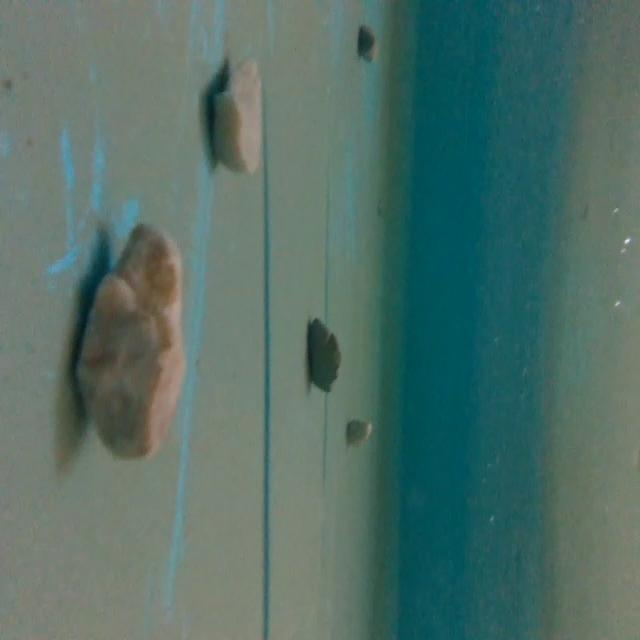rock: (69, 215, 195, 465), (206, 52, 272, 182), (303, 310, 342, 401), (353, 18, 382, 68), (344, 414, 373, 444)
